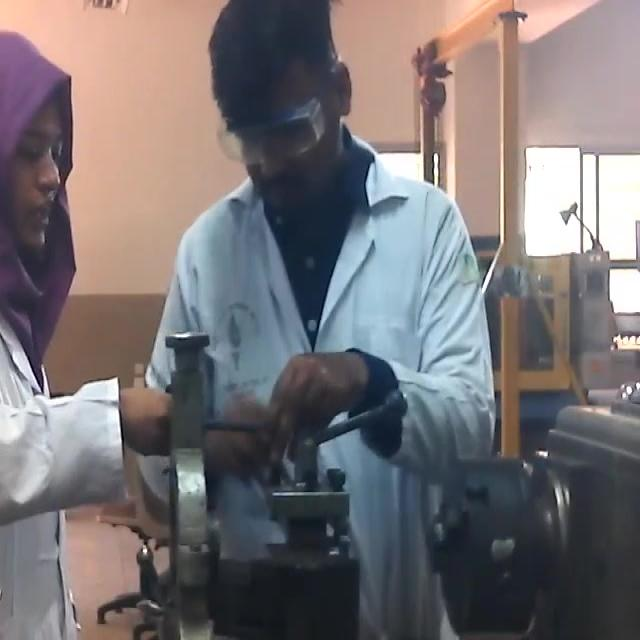googles: (219, 96, 325, 166)
labcoat: (148, 128, 493, 640), (0, 304, 123, 640)
